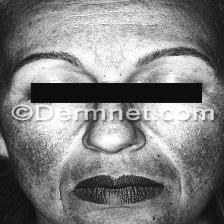Benign Marking or Mole: (15, 125, 224, 224)
